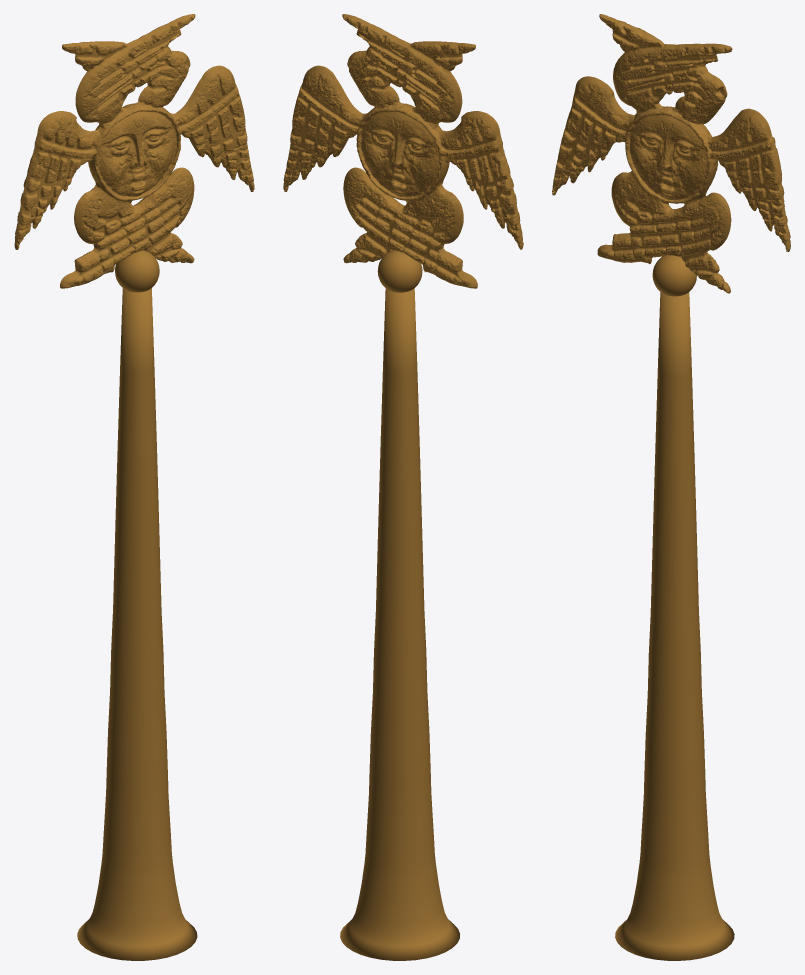
File: angel_near.glb
3 views of the same model, side by side, from view 1: azimuth 30°, elevation 25°; view 2: azimuth 150°, elevation 25°; view 3: azimuth 330°, elevation 25° (orthographic).
Parts seen in each view (by area): view 1: ANGEL; view 2: ANGEL; view 3: ANGEL.
Boxes of the visible parts, x1,y1,x2,y2 form: ANGEL: [14, 14, 254, 960]; ANGEL: [283, 14, 523, 960]; ANGEL: [552, 14, 790, 960].
Size of the model in its own units: 0.6146 by 2.24 by 0.2684.
1 material, 1 textured.
